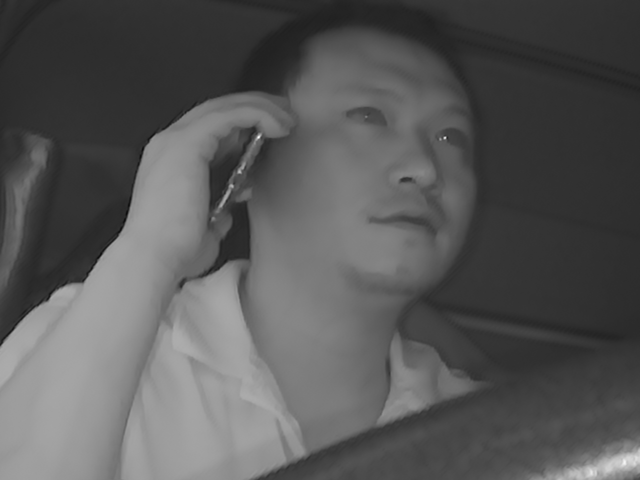hand: (128, 87, 253, 264)
